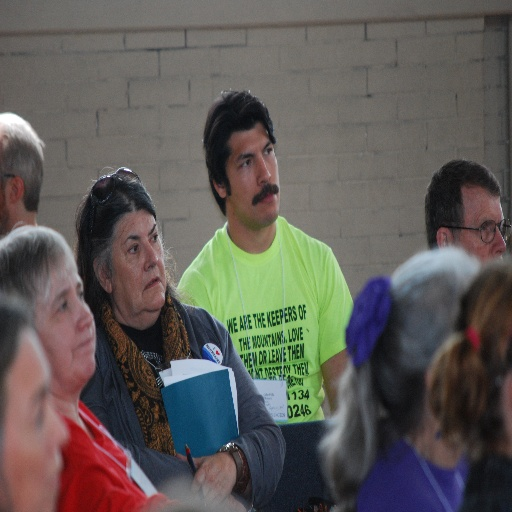hand: (185, 442, 233, 500)
